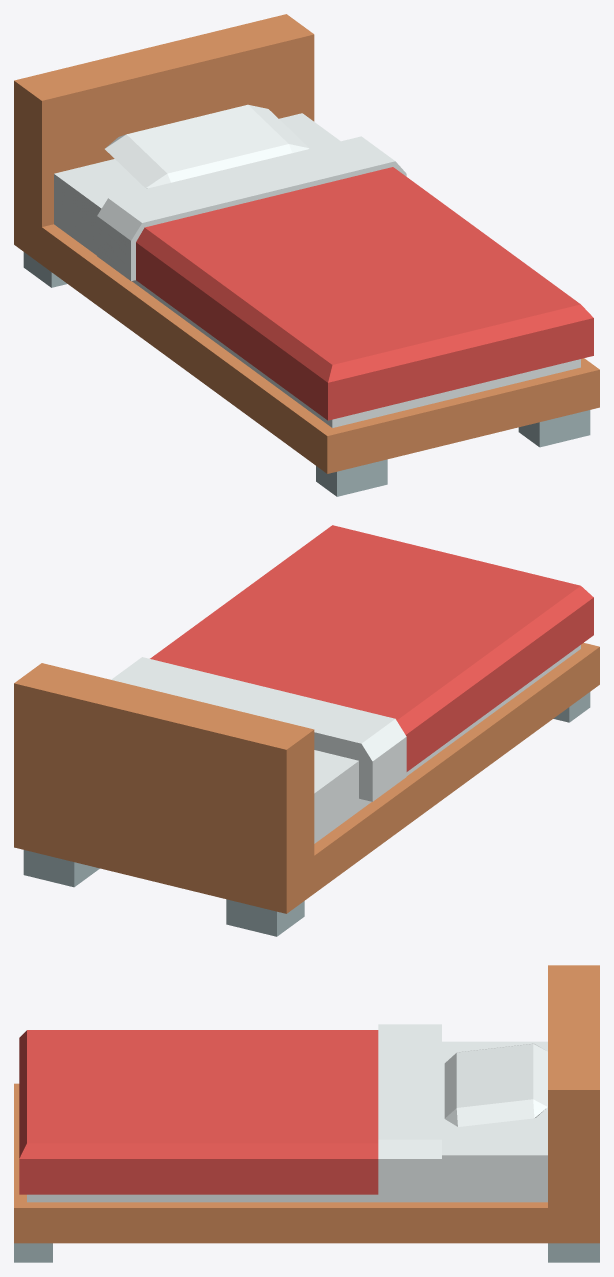
Rendered from Bed Single.glb.
3 views of the same model, one above another, from view 1: azimuth 30°, elevation 25°; view 2: azimuth 150°, elevation 25°; view 3: azimuth 270°, elevation 25° (orthographic). The views are drawn at different scales.
Parts seen in each view (by area): view 1: cover, bedSingle(Clone), pillow; view 2: bedSingle(Clone), cover; view 3: cover, bedSingle(Clone), pillow.
Part boxes in pixels (left/top/right/bottom): cover: left=97, top=136, right=593, bottom=420; bedSingle(Clone): left=14, top=14, right=599, bottom=496; pillow: left=105, top=104, right=309, bottom=188; bedSingle(Clone): left=14, top=643, right=599, bottom=936; cover: left=111, top=525, right=593, bottom=801; cover: left=19, top=1024, right=441, bottom=1196; bedSingle(Clone): left=14, top=965, right=599, bottom=1262; pillow: left=444, top=1043, right=547, bottom=1126.
Bounding box in the file's own units: 0.571 × 0.375 × 1.12.
